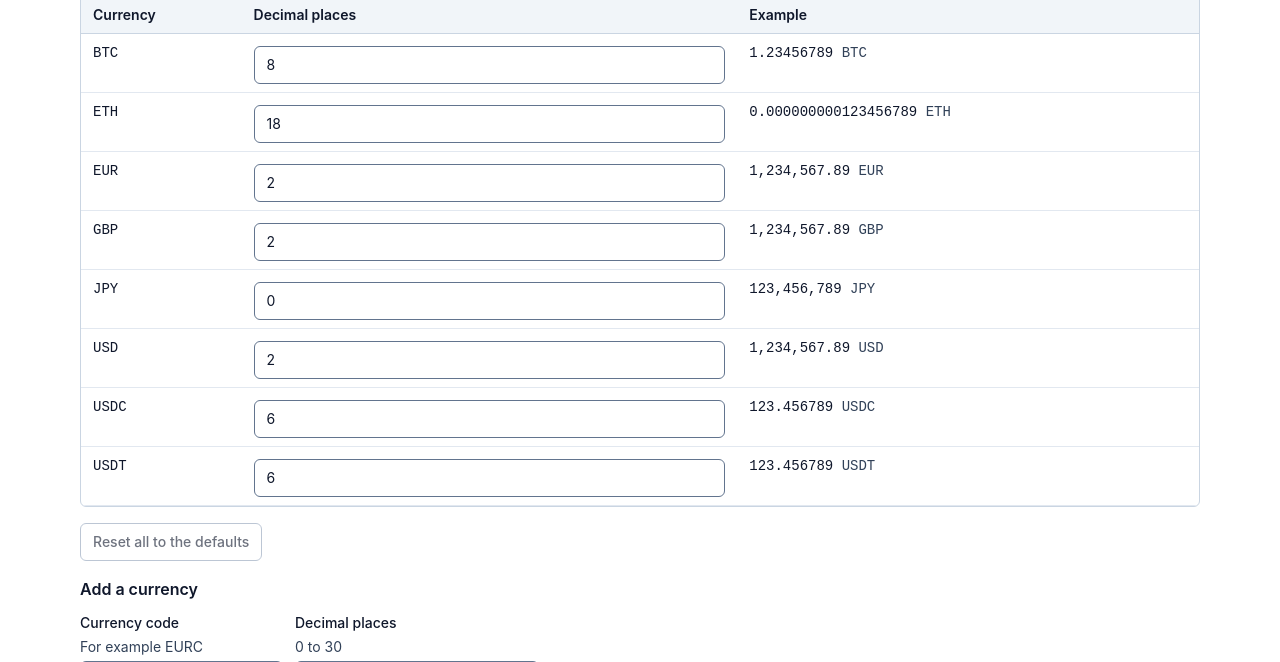
Test: Settings: amounts › resets one currency, and says so
(page scrolled)
Clear the 6th field named "Decimal places for USD": point(489, 360) [254,341,725,379]
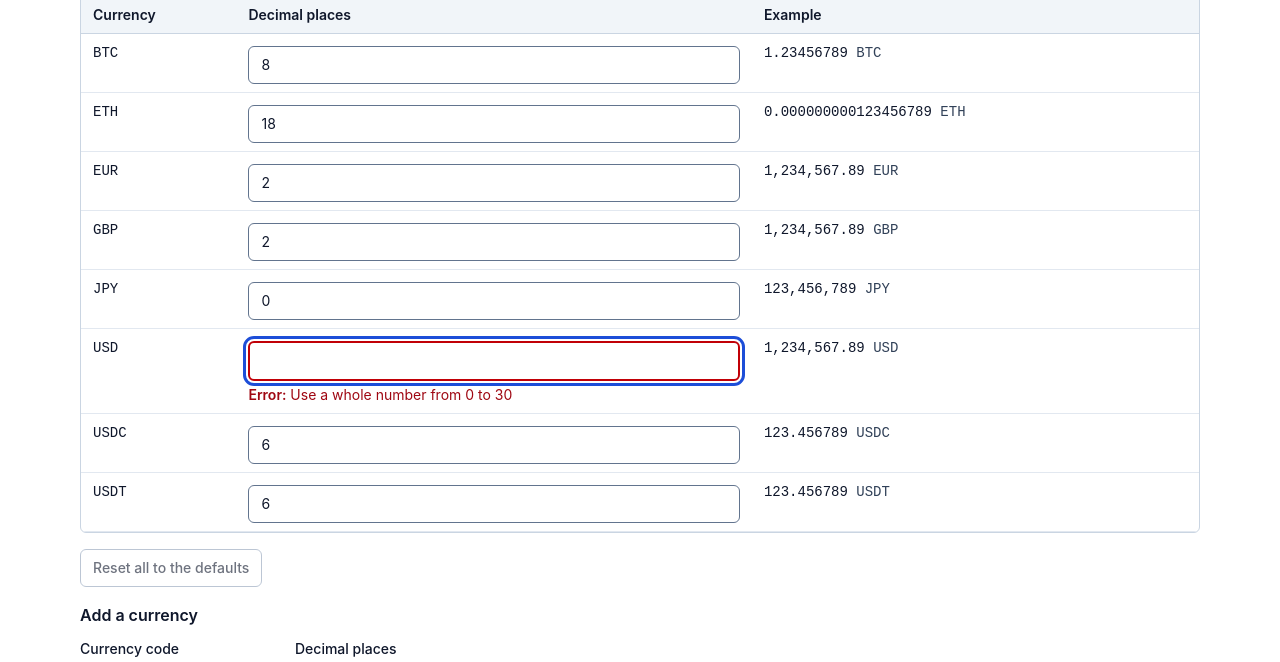
In the 6th field named "Decimal places for USD": point(494, 361) [248,341,740,381], type "4"
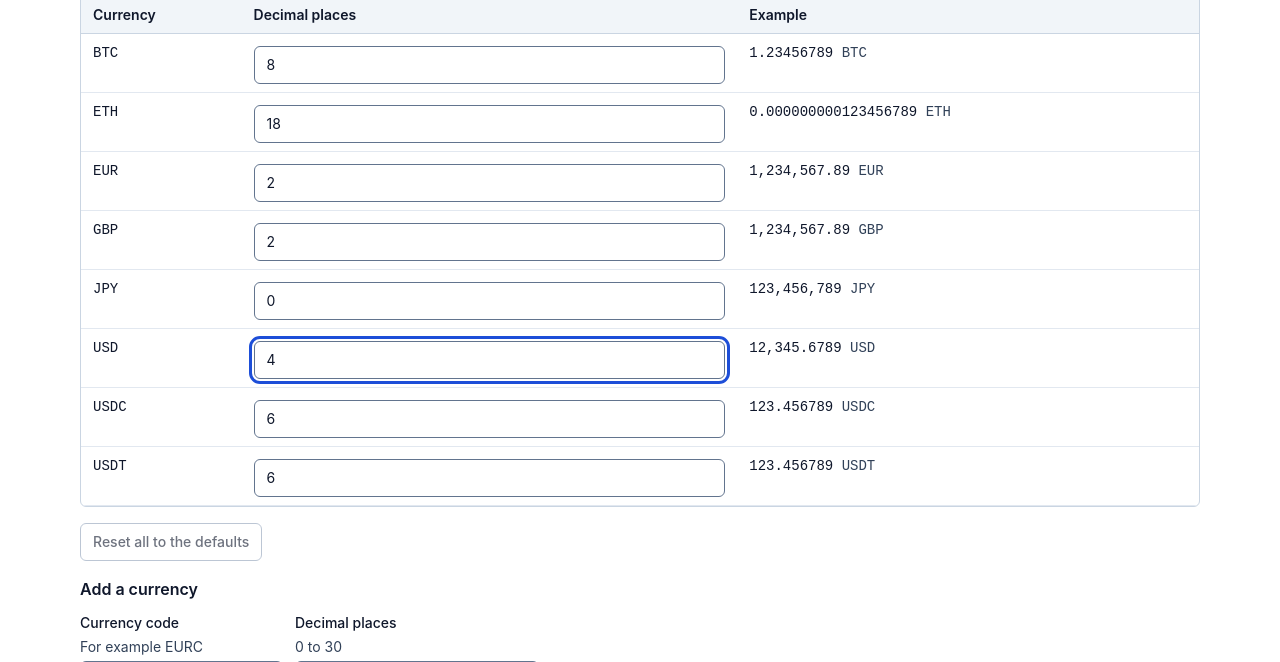
Press Tab
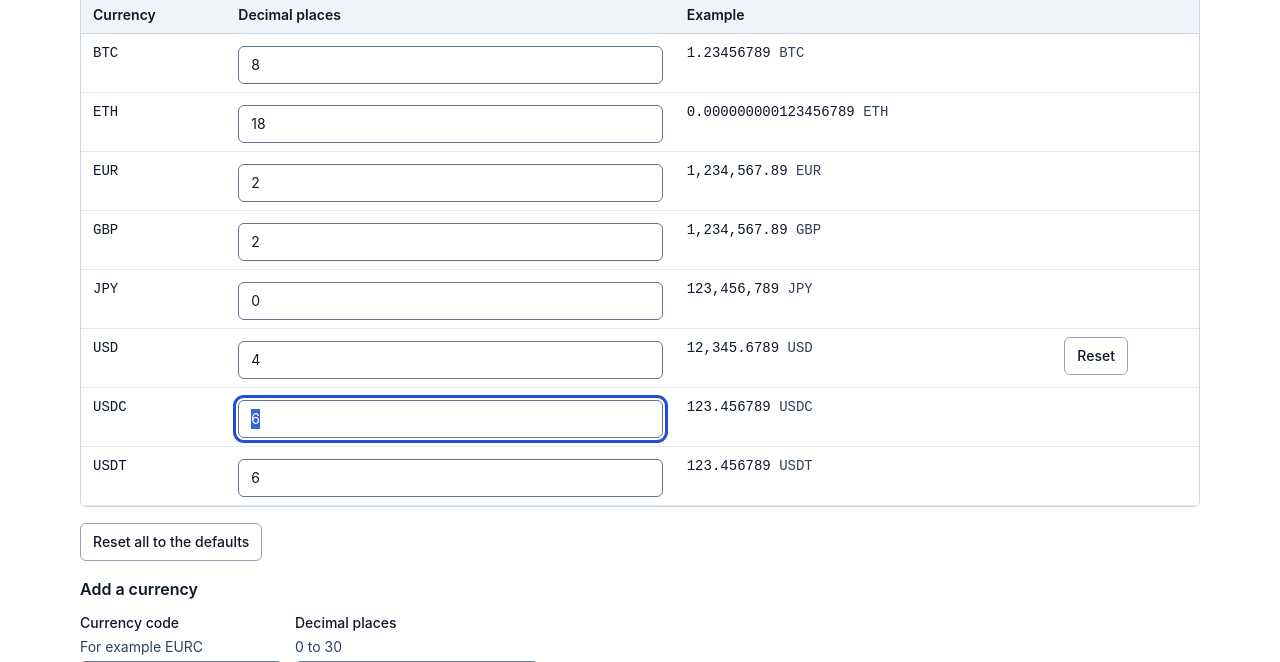
Click the button with aria-label "Reset USD to the default": point(1096, 356) [1064,337,1128,375]
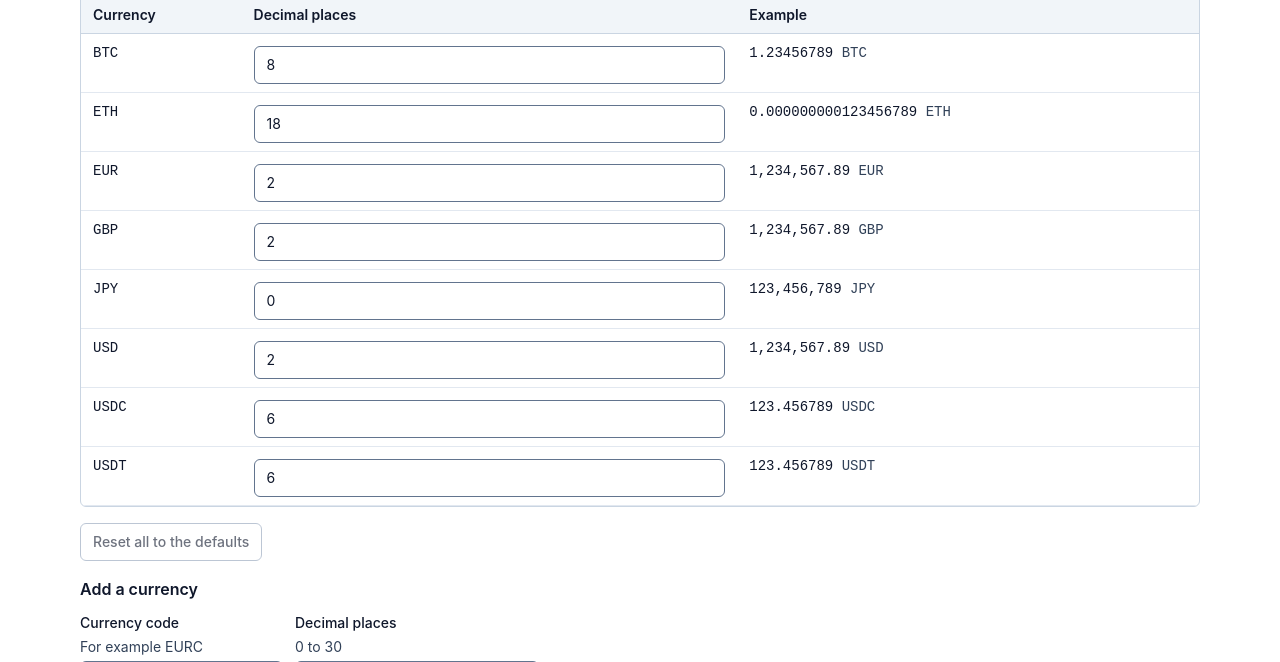
Check: the 6th field named "Decimal places for USD" holds "2", box [254,341,725,379]
